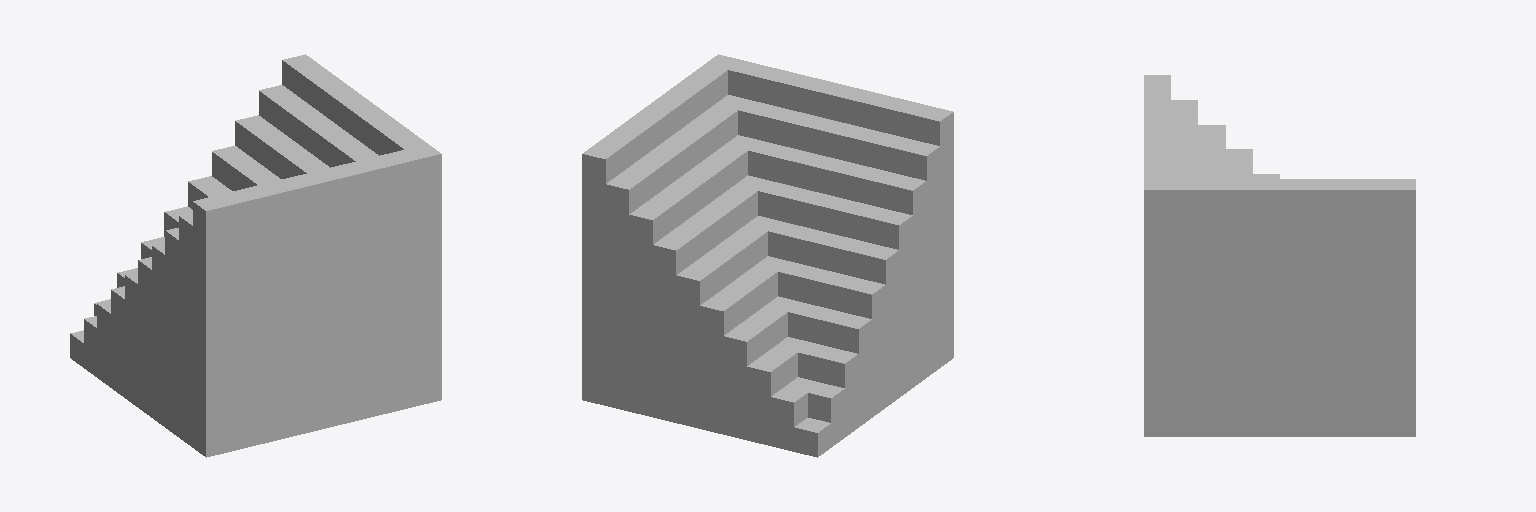
Rendered from stair_doubleside.obj.
3 renders of one model, left to right at view 1: azimuth 30°, elevation 25°; view 2: azimuth 150°, elevation 25°; view 3: azimuth 270°, elevation 25°, orthographic.
Visible parts, largest first — view 1: stair_doubleside; view 2: stair_doubleside; view 3: stair_doubleside.
Part boxes in pixels (x1,y1,x2,y2): stair_doubleside: (70, 54, 441, 457); stair_doubleside: (582, 54, 953, 457); stair_doubleside: (1144, 75, 1415, 436).
Size of the model in its own units: 20 by 20 by 20.